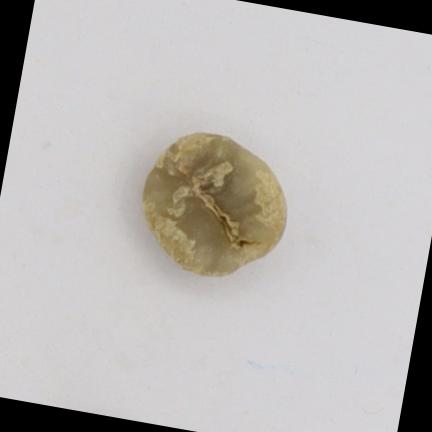immature: (144, 132, 287, 275)
